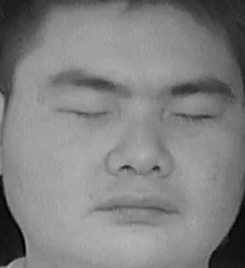blink: (57, 93, 114, 129), (171, 98, 222, 136)
mouth: (91, 185, 180, 231)
